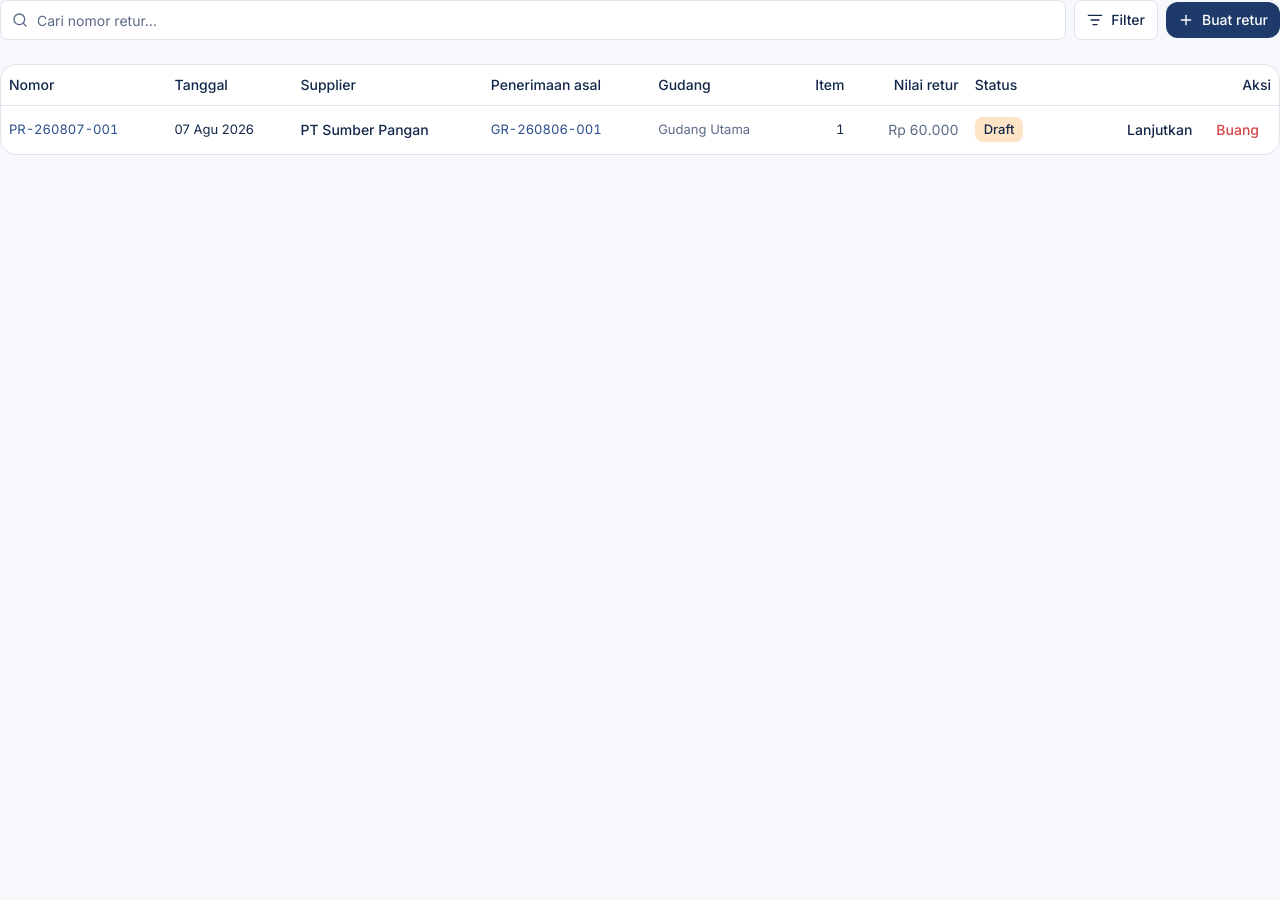
PurchaseReturnsScreen › surfaces the API's refusal when a discard loses a race with a submit
Click the button "Buang" at (1238,130), box x1=1204 y1=114 x2=1271 y2=146
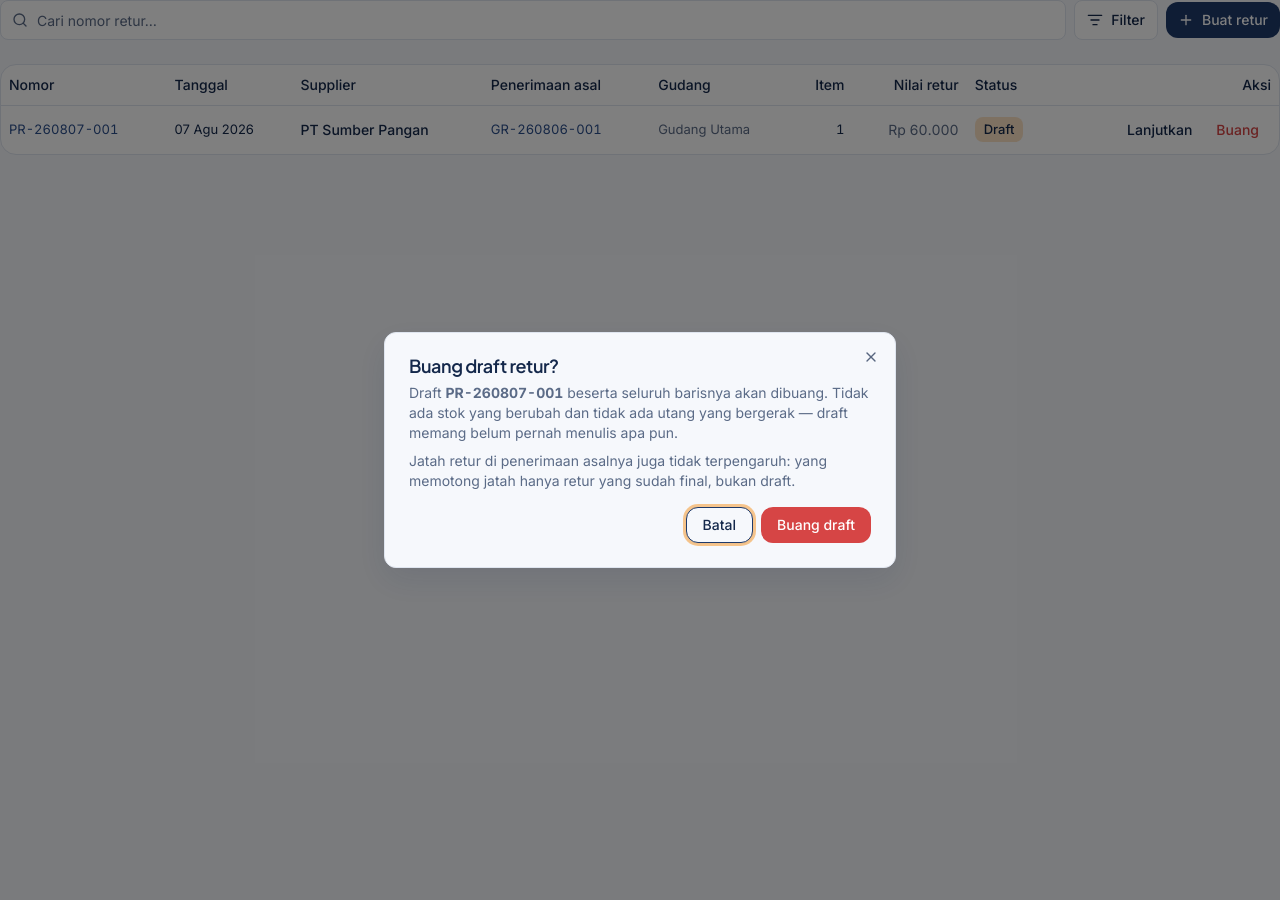
Click the button "Buang draft" at (816,525), box x1=761 y1=507 x2=871 y2=543
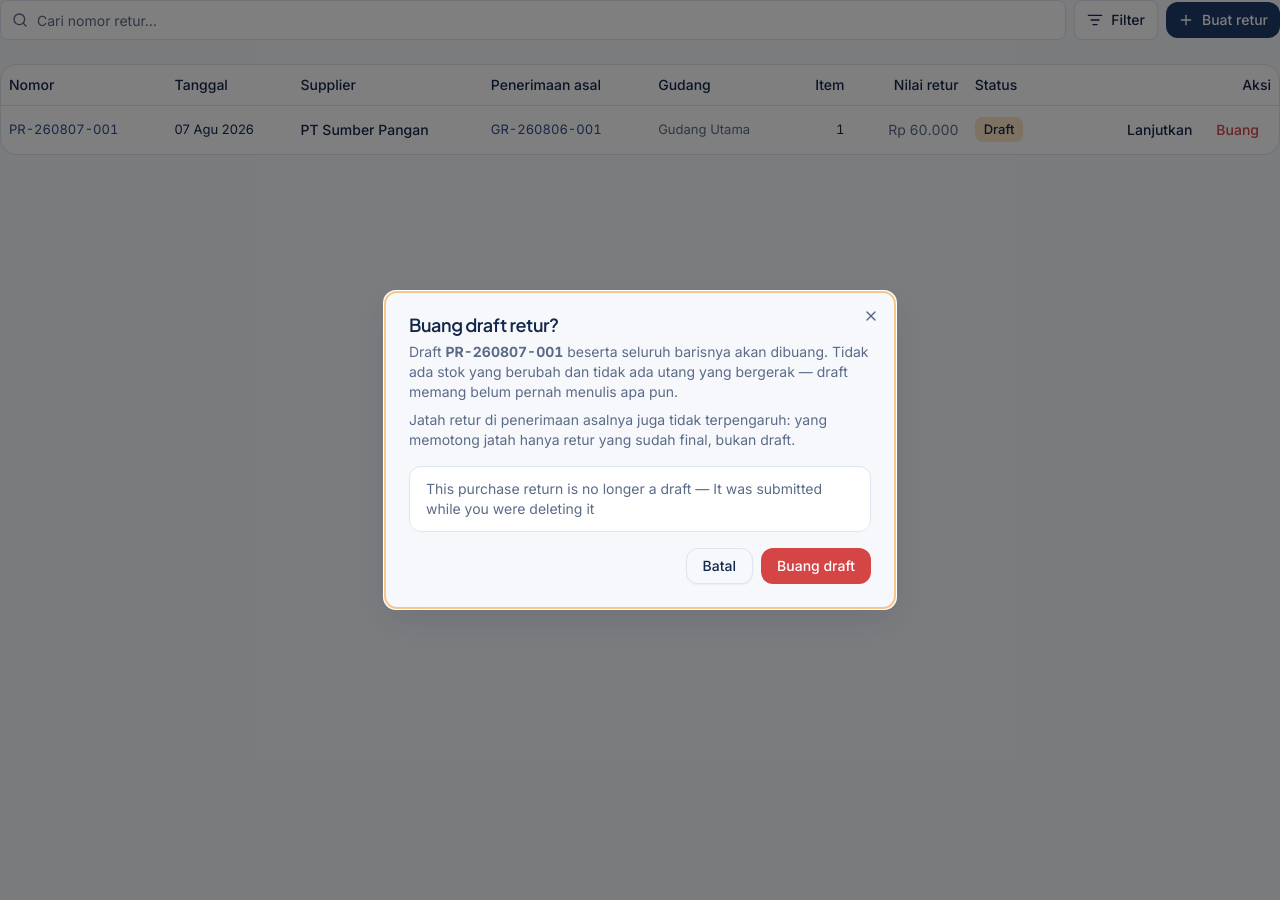
expect the text "no longer a draft" is shown: met, box x1=426 y1=480 x2=822 y2=517
